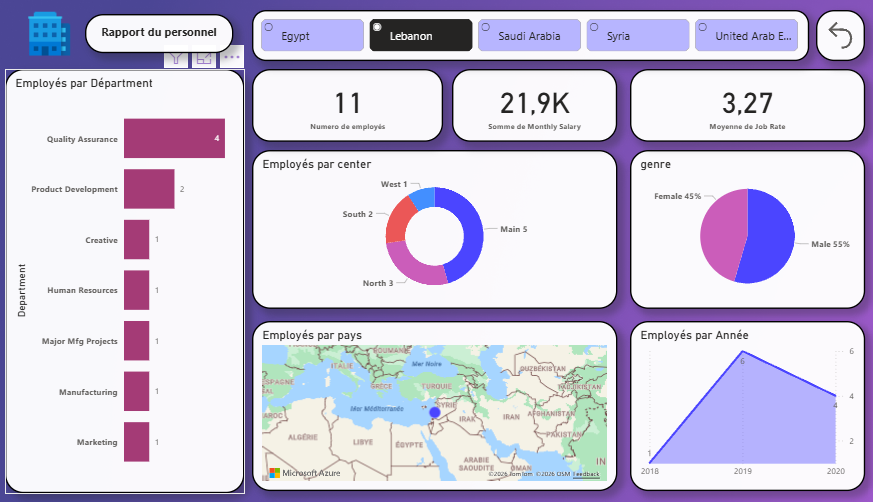

The page's visual inventory and layout, read from the dashboard file:
{"tool":"powerbi","page":{"name":"Rapport du personnel","canvas":[1280,720],"ordinal":1},"visuals":[{"type":"clusteredBarChart","title":"Employés par Départment","fields":{"Category":["EmpTable.Department"],"Y":["CountNonNull(EmpTable.No)"]},"box":[14.5,101.6,342.5,606.3],"z":0},{"type":"donutChart","title":"Employés par center","fields":{"Category":["EmpTable.Center"],"Y":["CountNonNull(EmpTable.No)"]},"box":[366.7,216.6,521.5,227.5],"z":1000},{"type":"pieChart","title":"genre","fields":{"Category":["EmpTable.Gender"],"Y":["CountNonNull(EmpTable.Gender)"]},"box":[907.1,217.1,335.7,227.1],"z":2000},{"type":"azureMap","title":"Employés par pays","fields":{"Size":["Sum(EmpTable.No)"],"Category":["EmpTable.Country"]},"box":[366.7,461,521.5,243.2],"z":3000},{"type":"areaChart","title":"Employés par Année","fields":{"Y2":["CountNonNull(EmpTable.No)"],"Category":["EmpTable.Start Date.Variation.Hiérarchie de dates.Année","EmpTable.Start Date.Variation.Hiérarchie de dates.Trimestre","EmpTable.Start Date.Variation.Hiérarchie de dates.Mois","EmpTable.Start Date.Variation.Hiérarchie de dates.Jour"]},"box":[907.1,461.4,335.7,242.9],"z":4000},{"type":"card","fields":{"Values":["CountNonNull(EmpTable.No)"]},"box":[366.7,101.6,273.5,104.1],"z":5000},{"type":"card","fields":{"Values":["Sum(EmpTable.Monthly Salary)"]},"box":[652.2,101.6,236,104.1],"z":6000},{"type":"card","fields":{"Values":["Avg(EmpTable.Job Rate)"]},"box":[907.1,101.4,335.7,104.3],"z":7000},{"type":"advancedSlicerVisual","fields":{"Values":["EmpTable.Country"]},"box":[367.1,17.1,795.7,72.9],"z":8000},{"type":"textbox","box":[128.3,23,211.8,55.7],"z":9000},{"type":"image","box":[26.6,10.9,101.6,78.7],"z":10000},{"type":"actionButton","box":[1172.9,17.1,70,72.9],"z":10001}]}

Visuals, with their boxes in screenshot pixels (x1, y1, x2, y2):
"Employés par Départment" clusteredBarChart: bbox=(6, 69, 244, 491)
"Employés par center" donutChart: bbox=(251, 149, 615, 307)
"genre" pieChart: bbox=(628, 149, 862, 307)
"Employés par pays" azureMap: bbox=(251, 319, 615, 489)
"Employés par Année" areaChart: bbox=(628, 319, 862, 489)
card - CountNonNull(EmpTable.No): bbox=(251, 69, 442, 141)
card - Sum(EmpTable.Monthly Salary): bbox=(450, 69, 615, 141)
card - Avg(EmpTable.Job Rate): bbox=(628, 68, 862, 141)
advancedSlicerVisual - EmpTable.Country: bbox=(251, 10, 806, 60)
textbox: bbox=(85, 14, 233, 53)
image: bbox=(14, 5, 85, 60)
actionButton: bbox=(813, 10, 862, 60)
